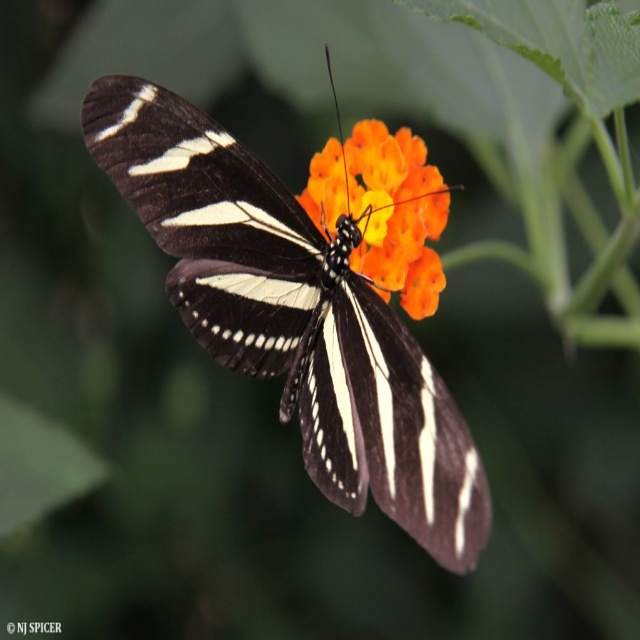Butterfly: (81, 42, 493, 577)
